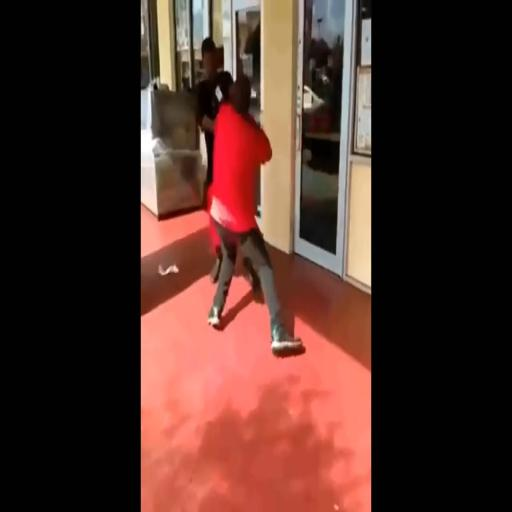violencia: (180, 22, 309, 362)
